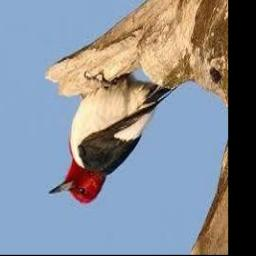Woodpecker: (49, 79, 172, 204)
